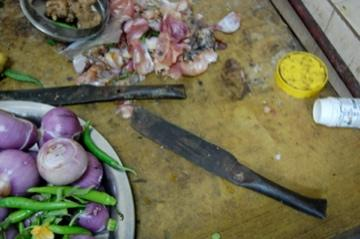green bean: (84, 119, 138, 176), (0, 196, 57, 232), (26, 186, 117, 206), (0, 196, 87, 212), (4, 69, 44, 88), (48, 225, 92, 236), (44, 208, 74, 218), (48, 19, 77, 29), (40, 215, 56, 226), (57, 188, 65, 202)
onion: (36, 137, 88, 185), (0, 148, 41, 196), (0, 108, 38, 150), (40, 107, 81, 143), (72, 152, 103, 190), (77, 201, 110, 234), (207, 11, 242, 34), (166, 14, 187, 42), (24, 211, 44, 228), (0, 206, 15, 223), (6, 224, 20, 239), (94, 230, 109, 239), (70, 234, 96, 239)
